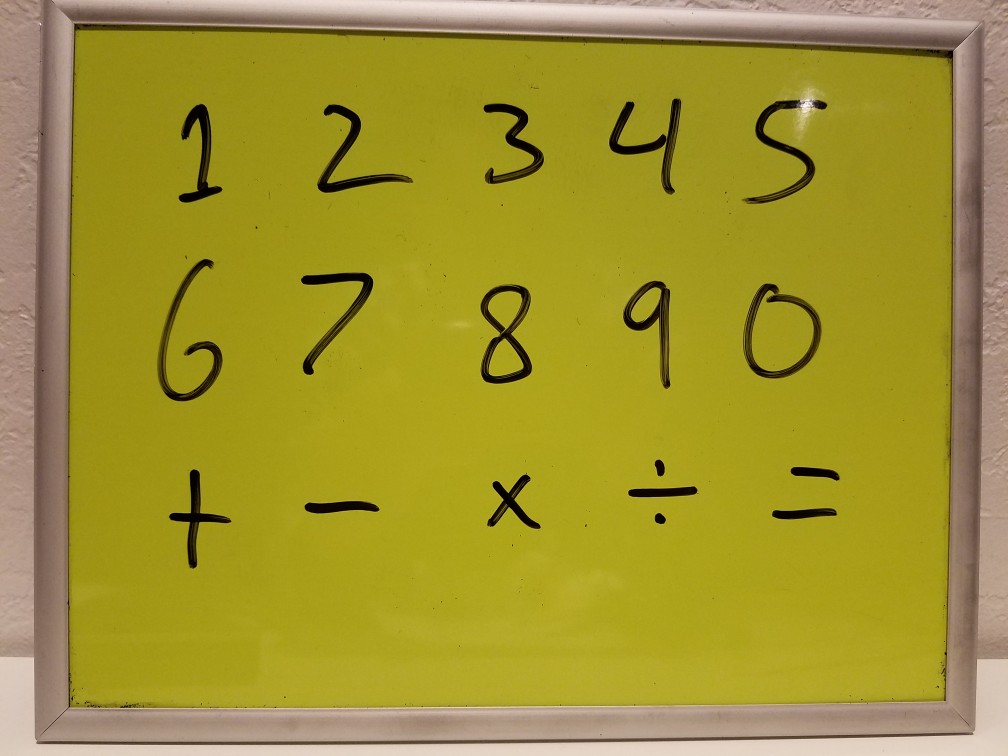+: (162, 463, 236, 573)
-: (298, 487, 386, 527)
0: (736, 271, 827, 386)
1: (166, 95, 233, 209)
2: (309, 97, 416, 201)
3: (473, 92, 550, 194)
4: (600, 87, 686, 205)
5: (735, 95, 839, 212)
6: (148, 253, 233, 407)
7: (289, 263, 379, 386)
8: (469, 275, 539, 395)
9: (615, 271, 679, 395)
=: (757, 452, 853, 529)
div: (615, 453, 705, 530)
x: (482, 469, 546, 539)
